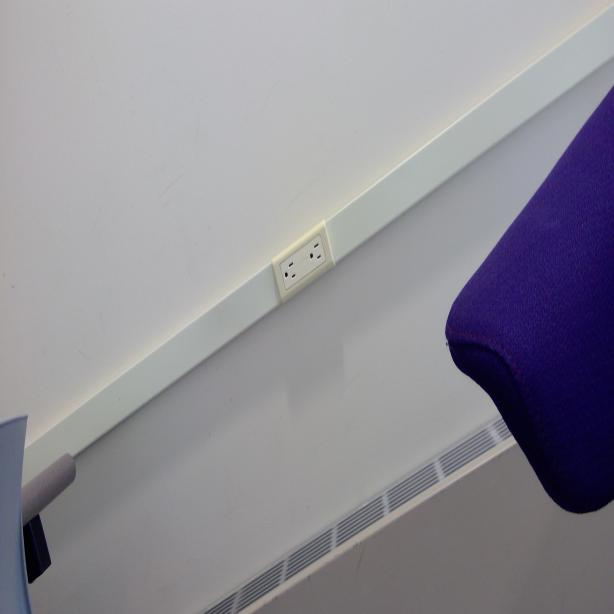typeb: (280, 258, 298, 288), (307, 239, 325, 266)
